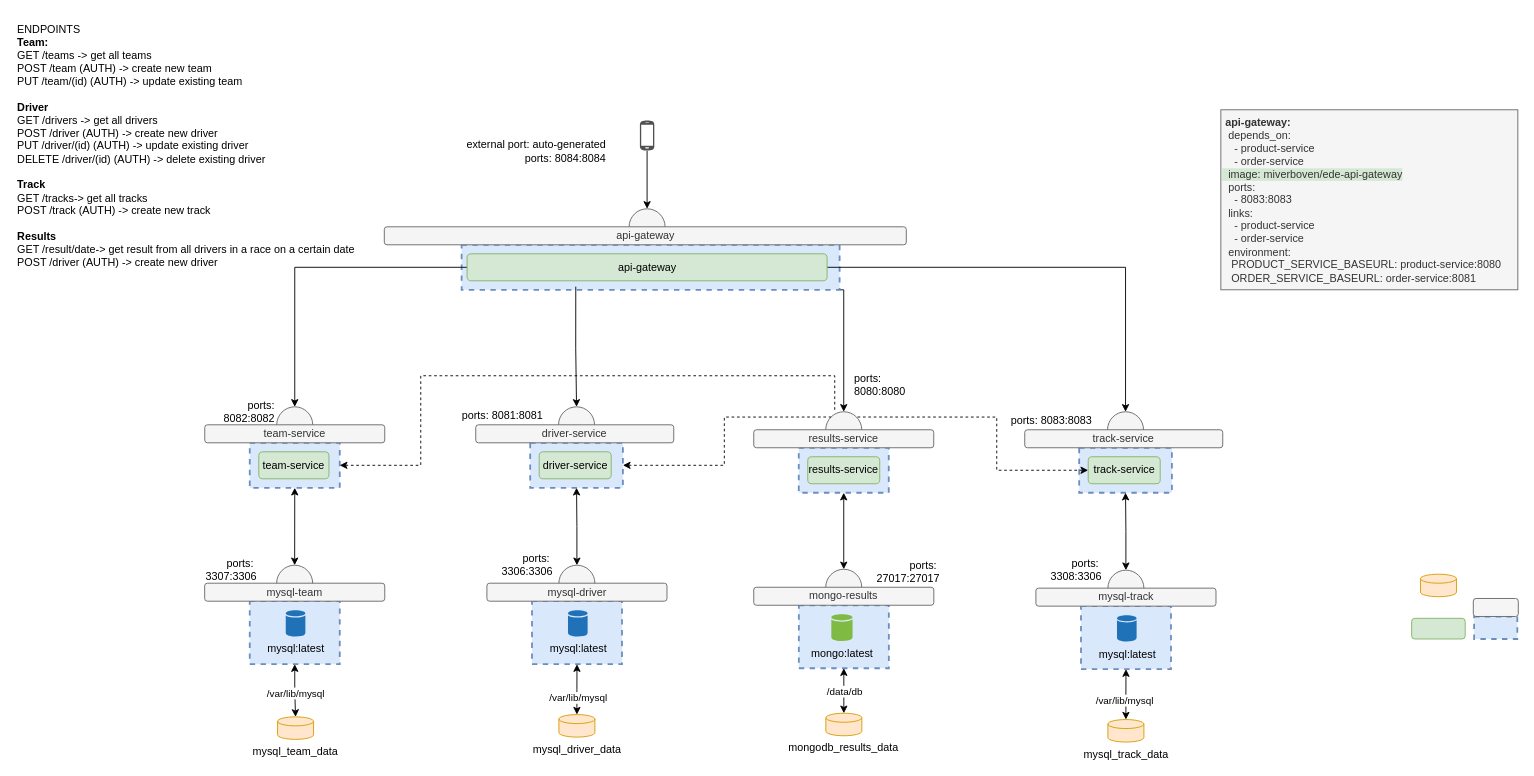
Some shapes in this 1534 by 776 pixel diagram are drawn without their labels. The centre of each missing label's shape, as x and y in pixels:
container: the point at 1438,628
POD: the point at 1495,627
service: the point at 1495,607
volume: the point at 1438,585
